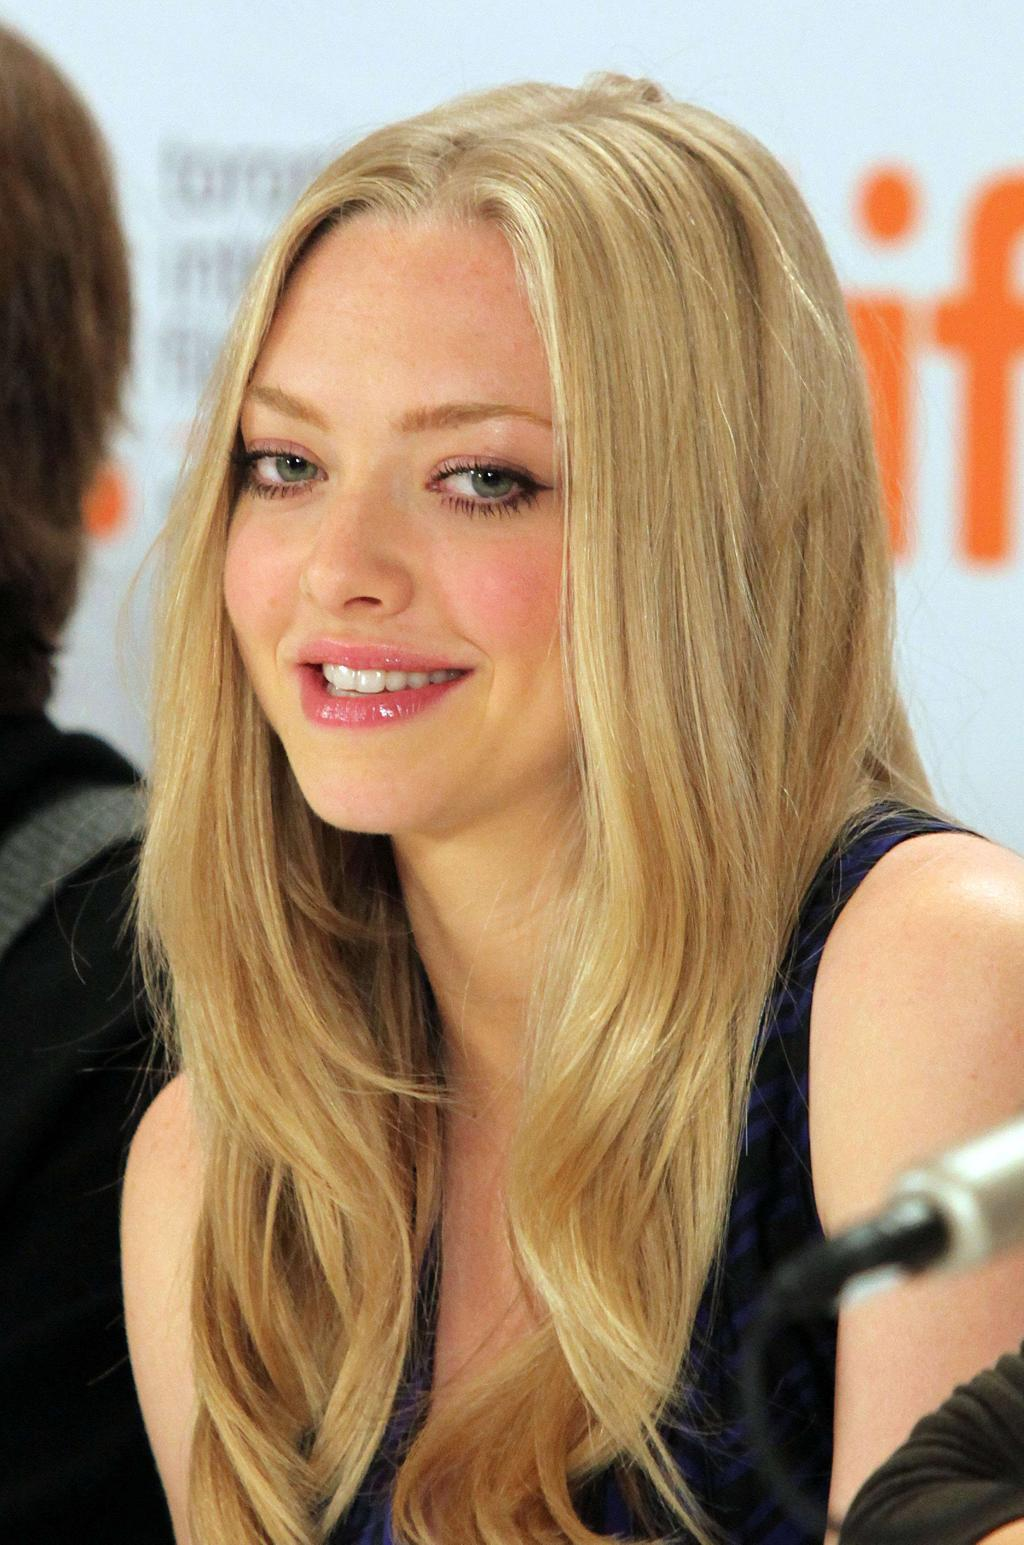face: (228, 228, 600, 835)
